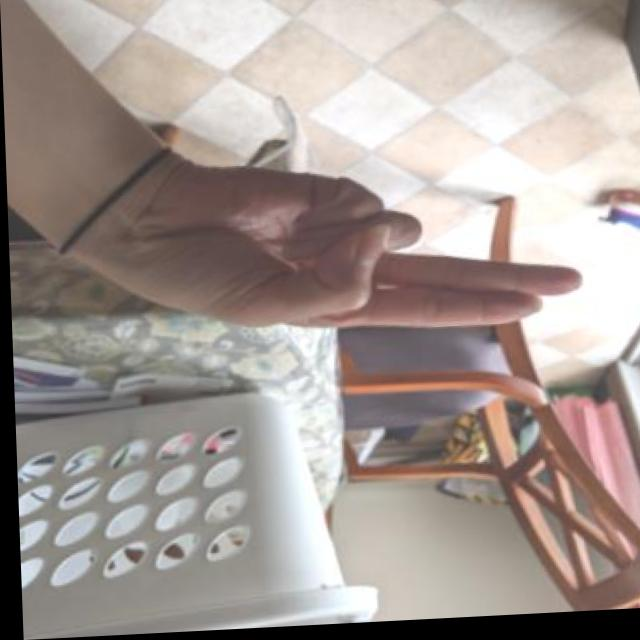H: (71, 130, 594, 370)
